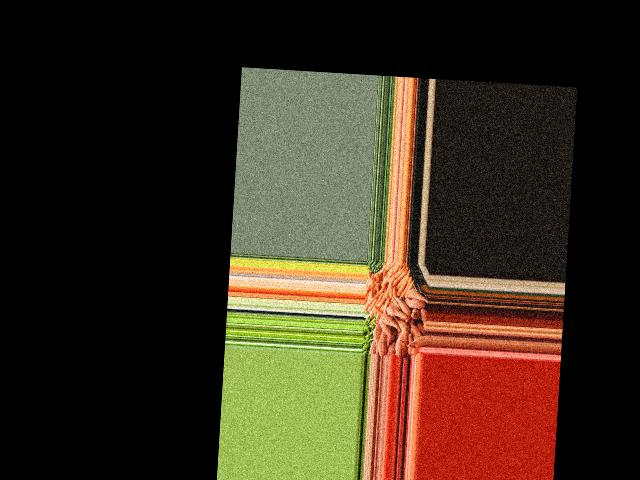carrot: (397, 275, 409, 298)
